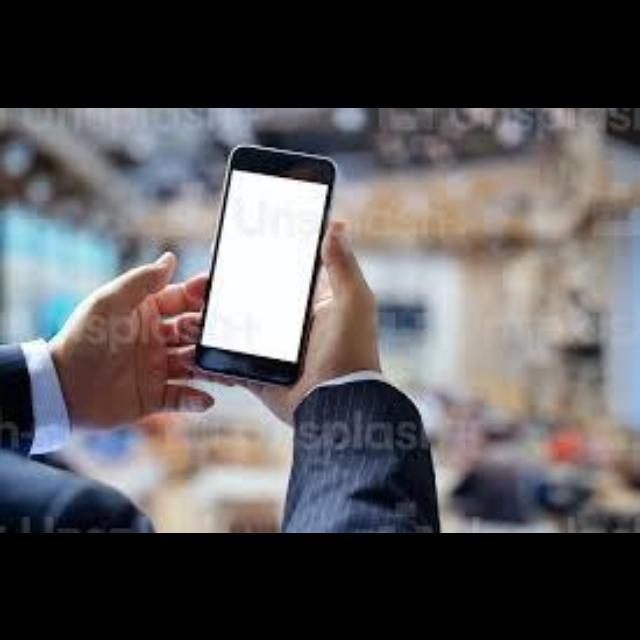phone: (197, 143, 335, 382)
